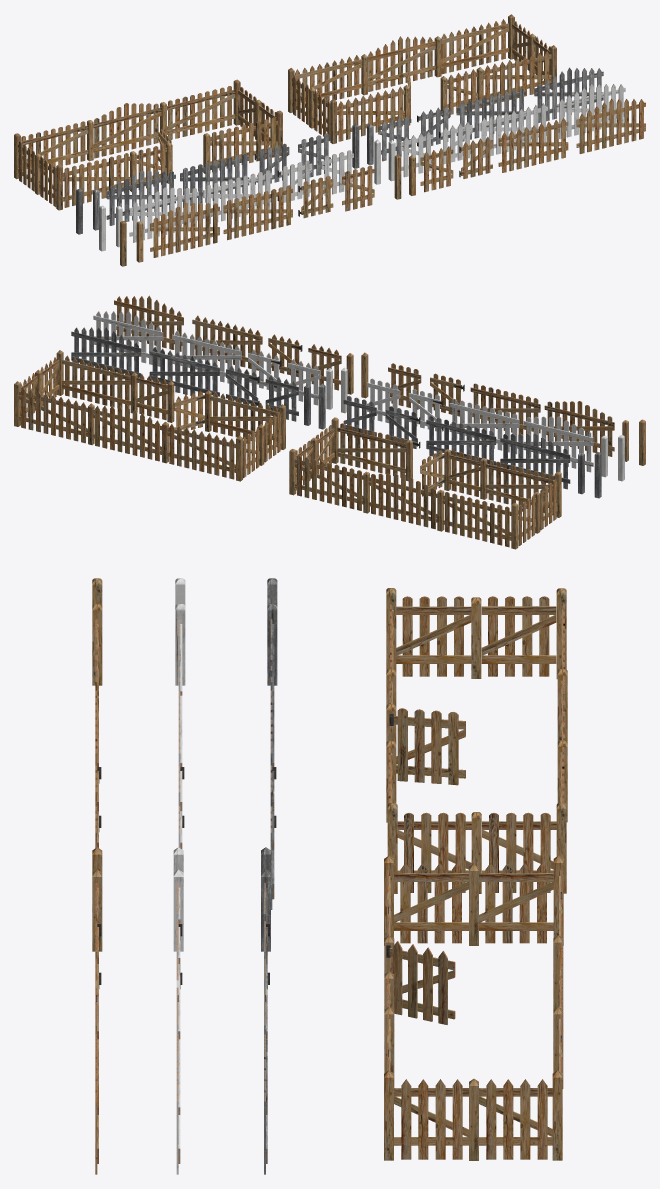
The picture shows the model from 3 angles, top to bottom: view 1: azimuth 30°, elevation 25°; view 2: azimuth 150°, elevation 25°; view 3: azimuth 270°, elevation 25°; orthographic projection. The views are drawn at different scales.
Parts seen in each view (by area): view 1: FenceStyle2High (×4), FenceStyle1High (×4), FenceStyle2Long (×4), FenceStyle1Long (×4), FenceStyle2Short (×4), FenceStyle1Short (×4), GateStyle2 (×3), GateStyle1 (×3), FenceStyle2Long3, FenceStyle1Long3, FenceStyle1Long4, FenceStyle2Long1 (+8 smaller); view 2: FenceStyle2High (×4), FenceStyle1High (×4), FenceStyle1Long (×4), FenceStyle2Long (×4), FenceStyle2Short (×4), GateStyle1 (×4), FenceStyle1Short (×4), GateStyle2 (×4), FenceStyle2Long3, FenceStyle2Long2, FenceStyle1Long2, FenceStyle2Long1 (+8 smaller); view 3: FenceStyle2Short2, FenceStyle2Short1, FenceStyle1Short2, FenceStyle1Short3, FenceStyle1Short, FenceStyle1Short1, GateStyle2, GateStyle1, FenceStyle2Short4, FenceStyle2Short3, PoleStyle1High2, PoleStyle11 (+1 smaller).
Part boxes in pixels (left/top/right/bottom): FenceStyle2High (×4): left=93, top=103, right=219, bottom=257; FenceStyle1High (×4): left=368, top=36, right=645, bottom=153; FenceStyle2Long (×4): left=63, top=153, right=292, bottom=240; FenceStyle1Long (×4): left=337, top=86, right=568, bottom=172; FenceStyle2Short (×4): left=136, top=133, right=374, bottom=211; FenceStyle1Short (×4): left=292, top=75, right=453, bottom=192; GateStyle2 (×3): left=257, top=143, right=333, bottom=218; GateStyle1 (×3): left=418, top=105, right=492, bottom=178; FenceStyle2Long3: left=167, top=86, right=235, bottom=140; FenceStyle1Long3: left=441, top=19, right=508, bottom=74; FenceStyle1Long4: left=483, top=51, right=551, bottom=105; FenceStyle2Long1: left=210, top=117, right=277, bottom=172; FenceStyle2High (×4): left=368, top=401, right=614, bottom=529; FenceStyle1High (×4): left=71, top=295, right=183, bottom=461; FenceStyle1Long (×4): left=149, top=315, right=278, bottom=446; FenceStyle2Long (×4): left=426, top=383, right=553, bottom=515; FenceStyle2Short (×4): left=343, top=363, right=480, bottom=496; GateStyle1 (×4): left=173, top=334, right=300, bottom=430; FenceStyle1Short (×4): left=243, top=344, right=341, bottom=478; GateStyle2 (×4): left=385, top=373, right=462, bottom=496; FenceStyle2Long3: left=294, top=455, right=363, bottom=510; FenceStyle2Long2: left=442, top=492, right=511, bottom=547; FenceStyle1Long2: left=167, top=424, right=235, bottom=479; FenceStyle2Long1: left=337, top=423, right=405, bottom=477; FenceStyle2Short2: left=481, top=596, right=556, bottom=676; FenceStyle2Short1: left=396, top=596, right=471, bottom=676; FenceStyle1Short2: left=394, top=1079, right=468, bottom=1159; FenceStyle1Short3: left=479, top=1079, right=552, bottom=1159; FenceStyle1Short: left=479, top=863, right=553, bottom=943; FenceStyle1Short1: left=394, top=863, right=468, bottom=943; GateStyle2: left=393, top=708, right=465, bottom=785; GateStyle1: left=389, top=941, right=455, bottom=1024; FenceStyle2Short4: left=397, top=812, right=471, bottom=892; FenceStyle2Short3: left=482, top=812, right=556, bottom=892; PoleStyle1High2: left=552, top=1070, right=562, bottom=1160; PoleStyle11: left=471, top=597, right=481, bottom=678.
Size of the model in its own units: 15.19 by 1.33 by 5.96.
Materials: 3 (3 with a texture image).
